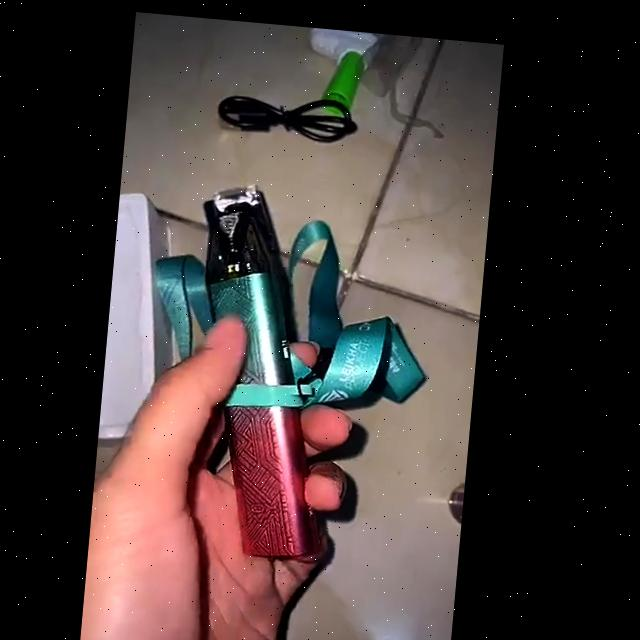vape: (189, 192, 352, 557)
